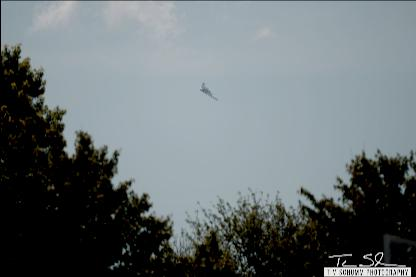B1: (198, 80, 216, 100)
